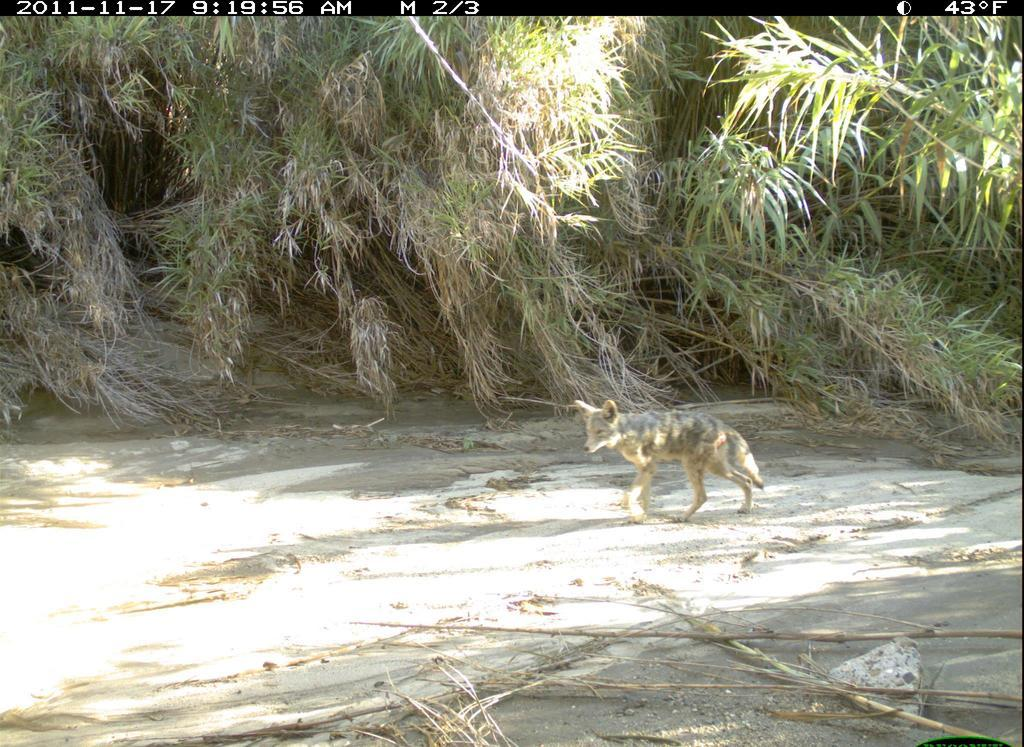coyote: (564, 387, 771, 535)
